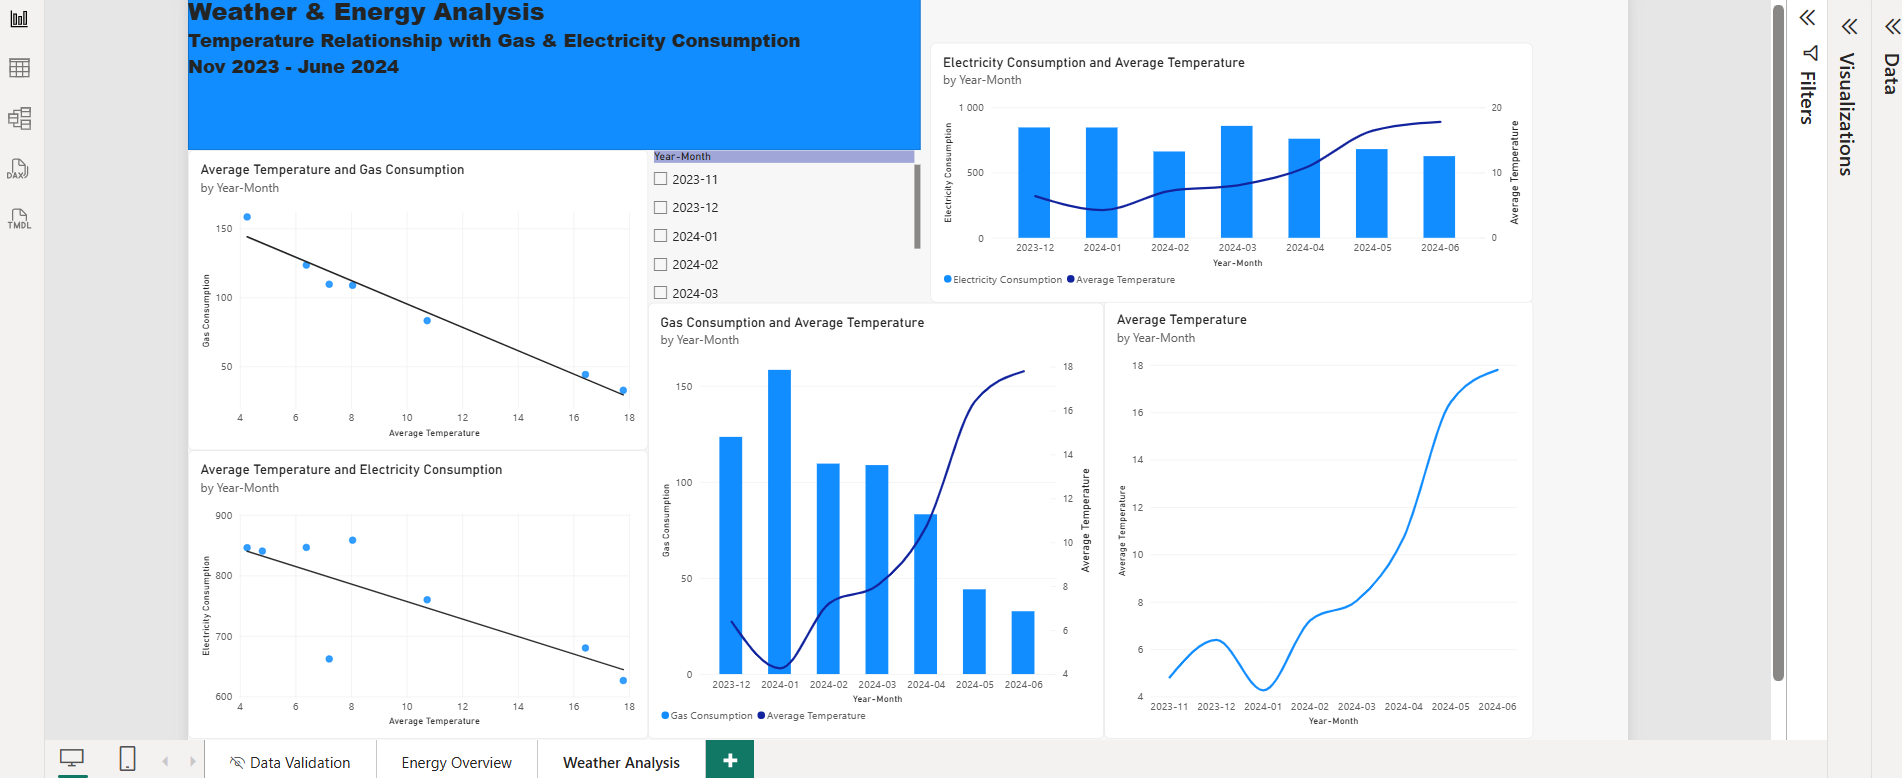

This screenshot's page, from the dashboard's own definition file:
{"tool":"powerbi","page":{"name":"Weather Analysis","canvas":[1920,1080],"ordinal":2},"visuals":[{"type":"lineChart","fields":{"Category":["DimDate.Year-Month"],"Y":["FactTemperature.Average Temperature"]},"box":[1221.7,398.3,571.7,481.7],"z":0},{"type":"lineClusteredColumnComboChart","fields":{"Category":["DimDate.Year-Month"],"Y":["FactEnergy.Electricity Consumption"],"Y2":["FactTemperature.Average Temperature"]},"box":[976.7,58.3,816.7,340],"z":1000},{"type":"scatterChart","fields":{"Category":["DimDate.Year-Month"],"X":["FactTemperature.Average Temperature"],"Y":["FactEnergy.Gas Consumption"]},"box":[0,208.3,613.3,331.7],"z":2000},{"type":"shape","box":[0,0,976.7,208.3],"z":3000},{"type":"textbox","box":[0,0,976.7,130],"z":4000},{"type":"lineClusteredColumnComboChart","fields":{"Category":["DimDate.Year-Month"],"Y":["FactEnergy.Gas Consumption"],"Y2":["FactTemperature.Average Temperature"]},"box":[613.3,411.7,608.3,468.3],"z":5000},{"type":"scatterChart","fields":{"Category":["DimDate.Year-Month"],"X":["FactTemperature.Average Temperature"],"Y":["FactEnergy.Electricity Consumption"]},"box":[0,540,613.3,335],"z":6000},{"type":"slicer","fields":{"Values":["DimDate.Year-Month"]},"box":[613.3,208.3,363.3,203.3],"z":7000}]}

Visuals, with their boxes on the page's 1920x1080 design canvas (x1, y1, x2, y2). These are canvas units, not pixel positions in the 1902x778 screenshot, which may show the page scaled, cropped or inside an application window:
lineChart - DimDate.Year-Month x FactTemperature.Average Temperature: box=[1222, 398, 1793, 880]
lineClusteredColumnComboChart - DimDate.Year-Month x FactEnergy.Electricity Consumption: box=[977, 58, 1793, 398]
scatterChart - DimDate.Year-Month x FactTemperature.Average Temperature: box=[0, 208, 613, 540]
shape: box=[0, 0, 977, 208]
textbox: box=[0, 0, 977, 130]
lineClusteredColumnComboChart - DimDate.Year-Month x FactEnergy.Gas Consumption: box=[613, 412, 1222, 880]
scatterChart - DimDate.Year-Month x FactTemperature.Average Temperature: box=[0, 540, 613, 875]
slicer - DimDate.Year-Month: box=[613, 208, 977, 412]
